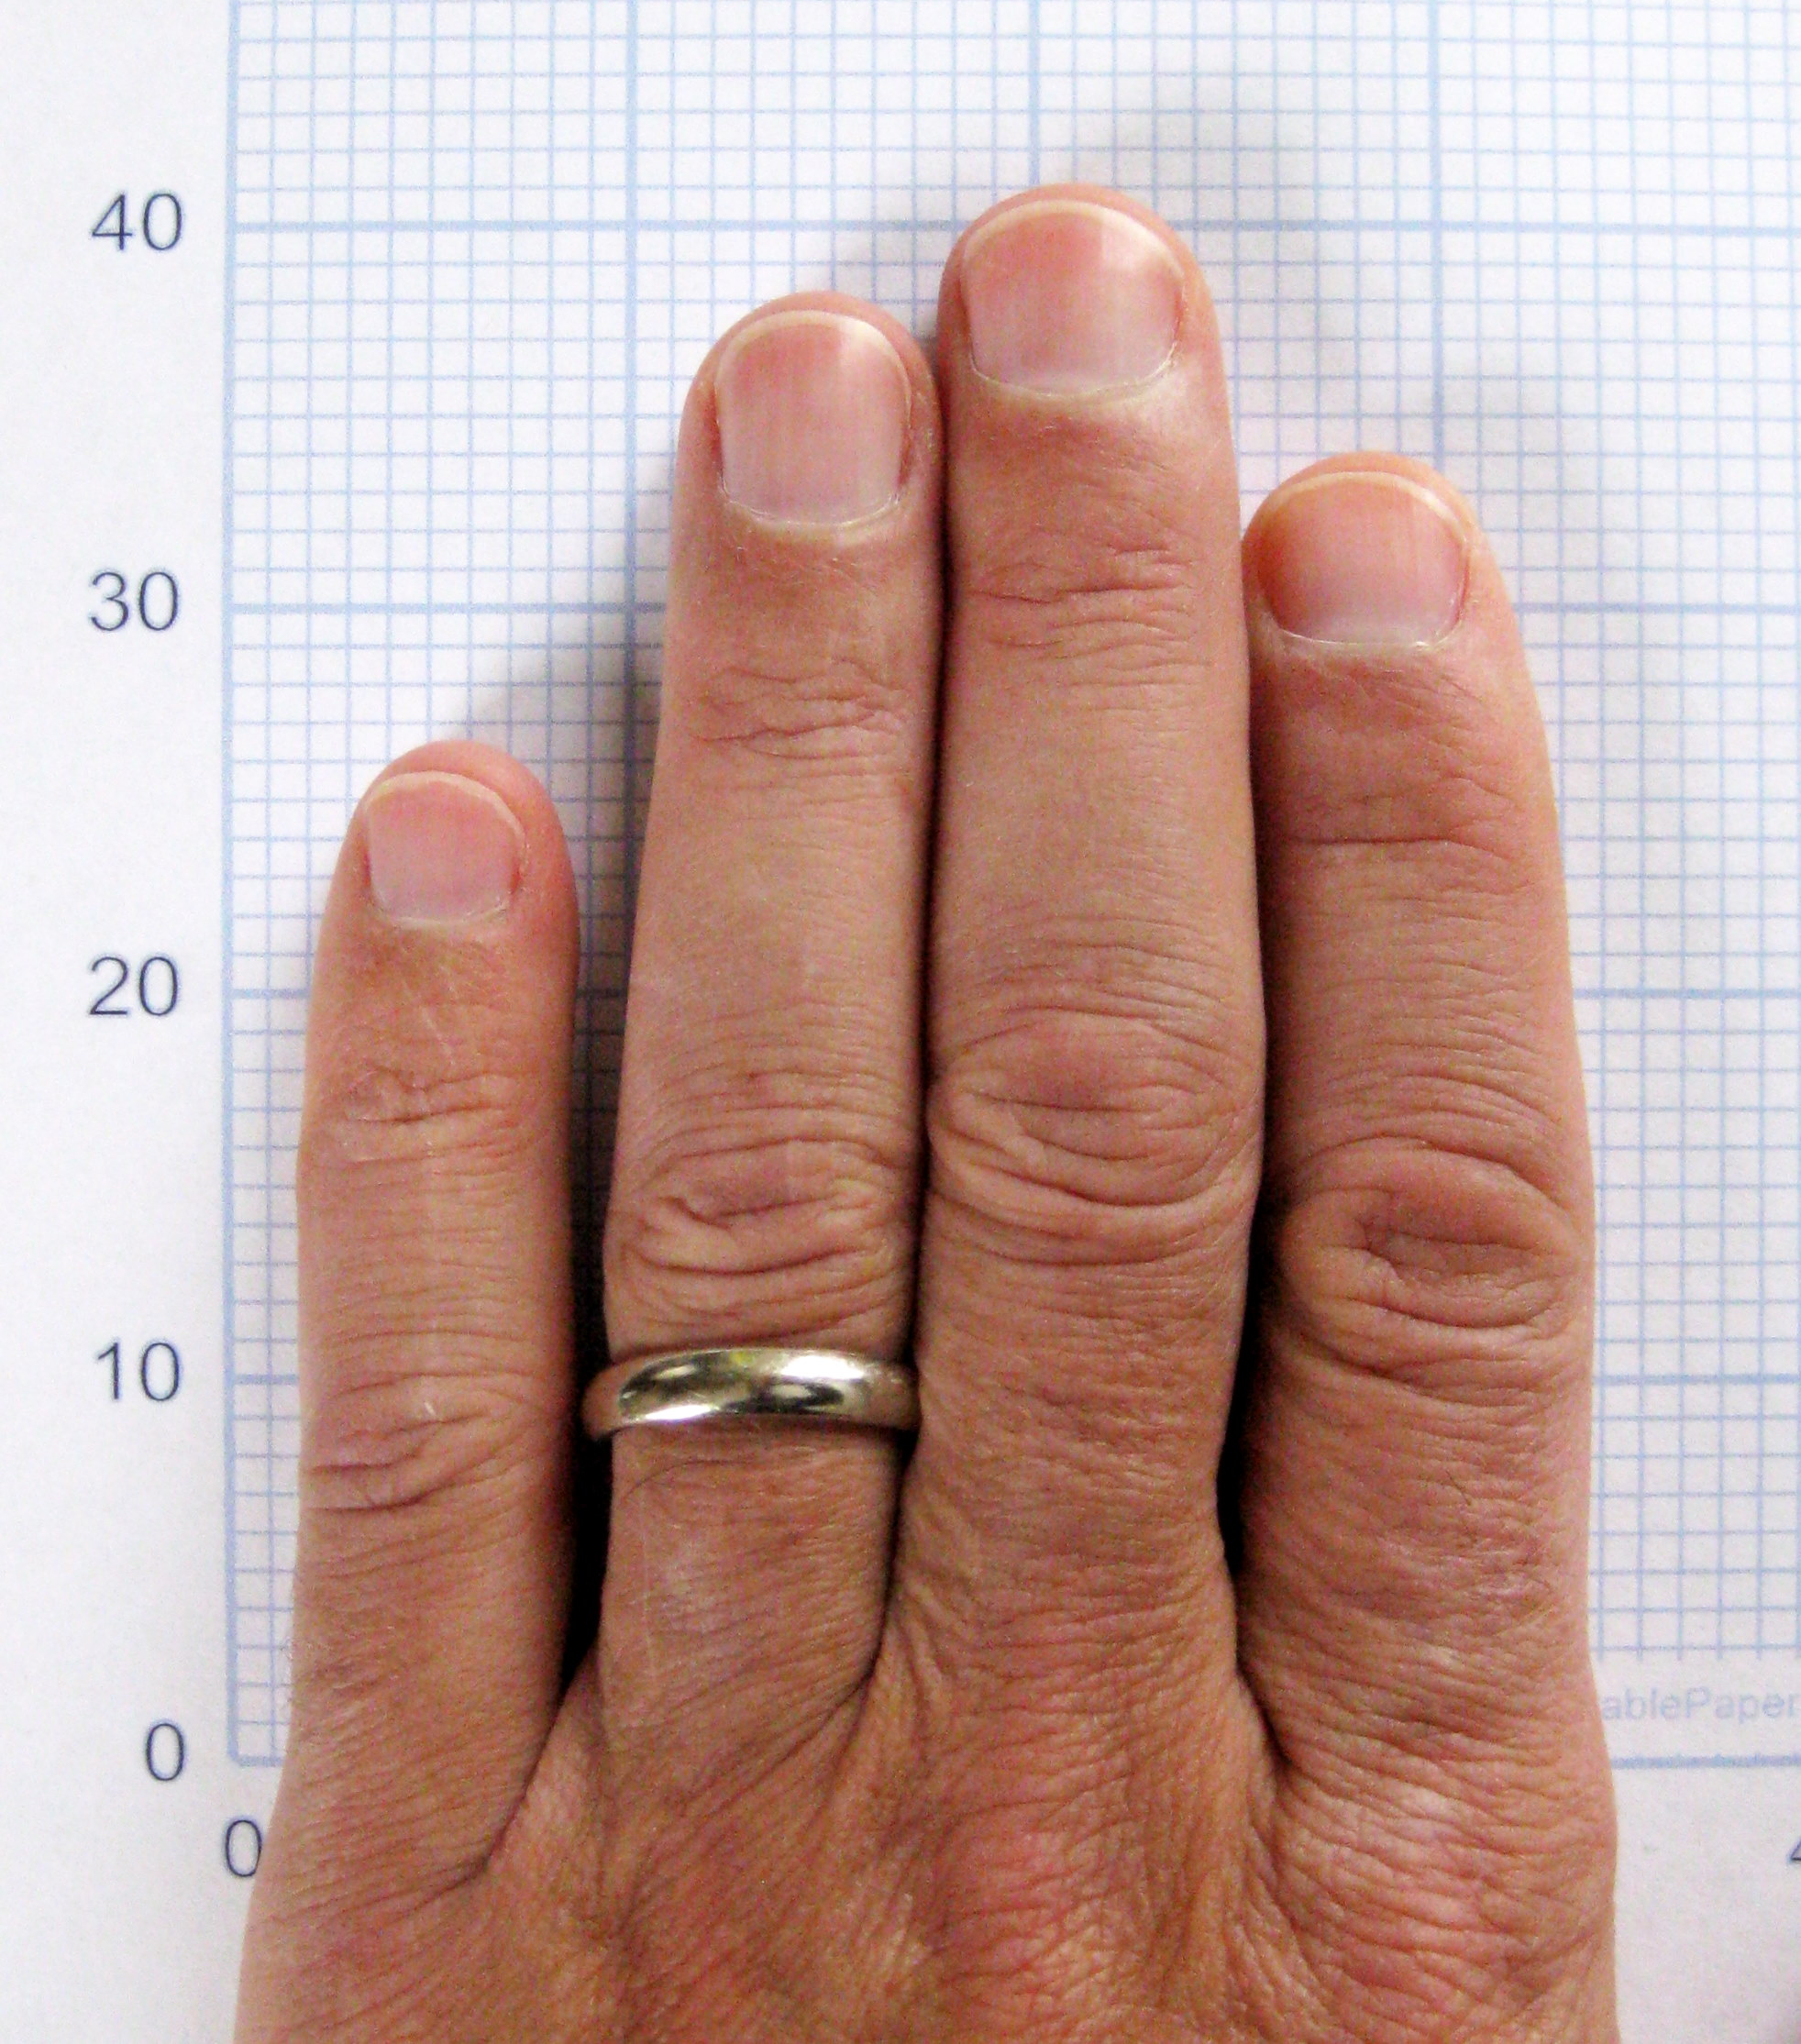finger: (874, 139, 1248, 1702), (1231, 452, 1615, 1769), (582, 292, 935, 1724), (266, 688, 608, 1875)
